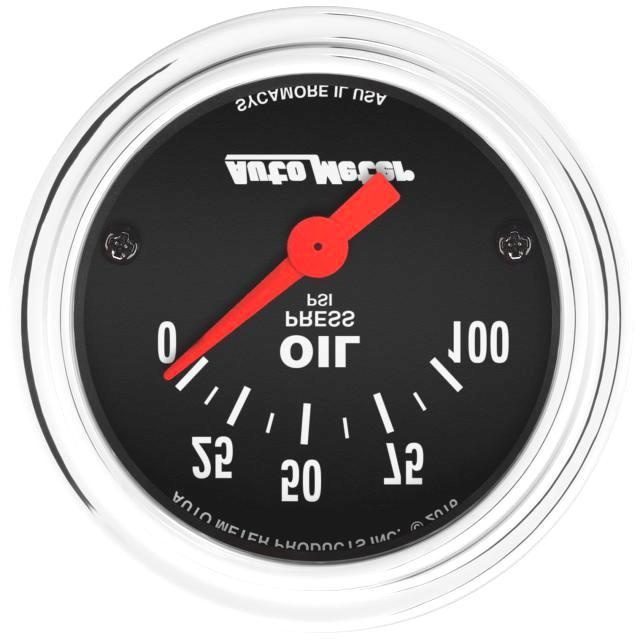Needle_Tip: (147, 306, 246, 398)
Needle_base: (275, 214, 370, 284)
max_value: (425, 308, 534, 376)
min_value: (131, 308, 198, 376)
